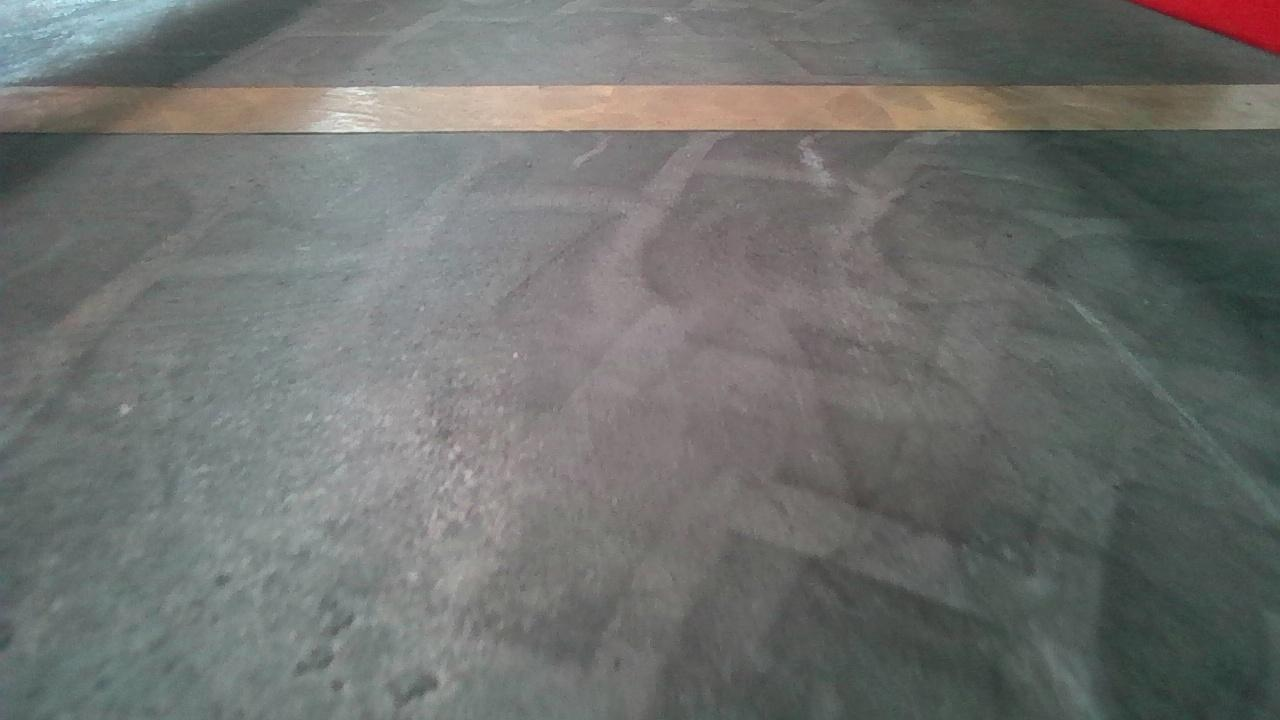yellow_line: (0, 73, 1267, 137)
